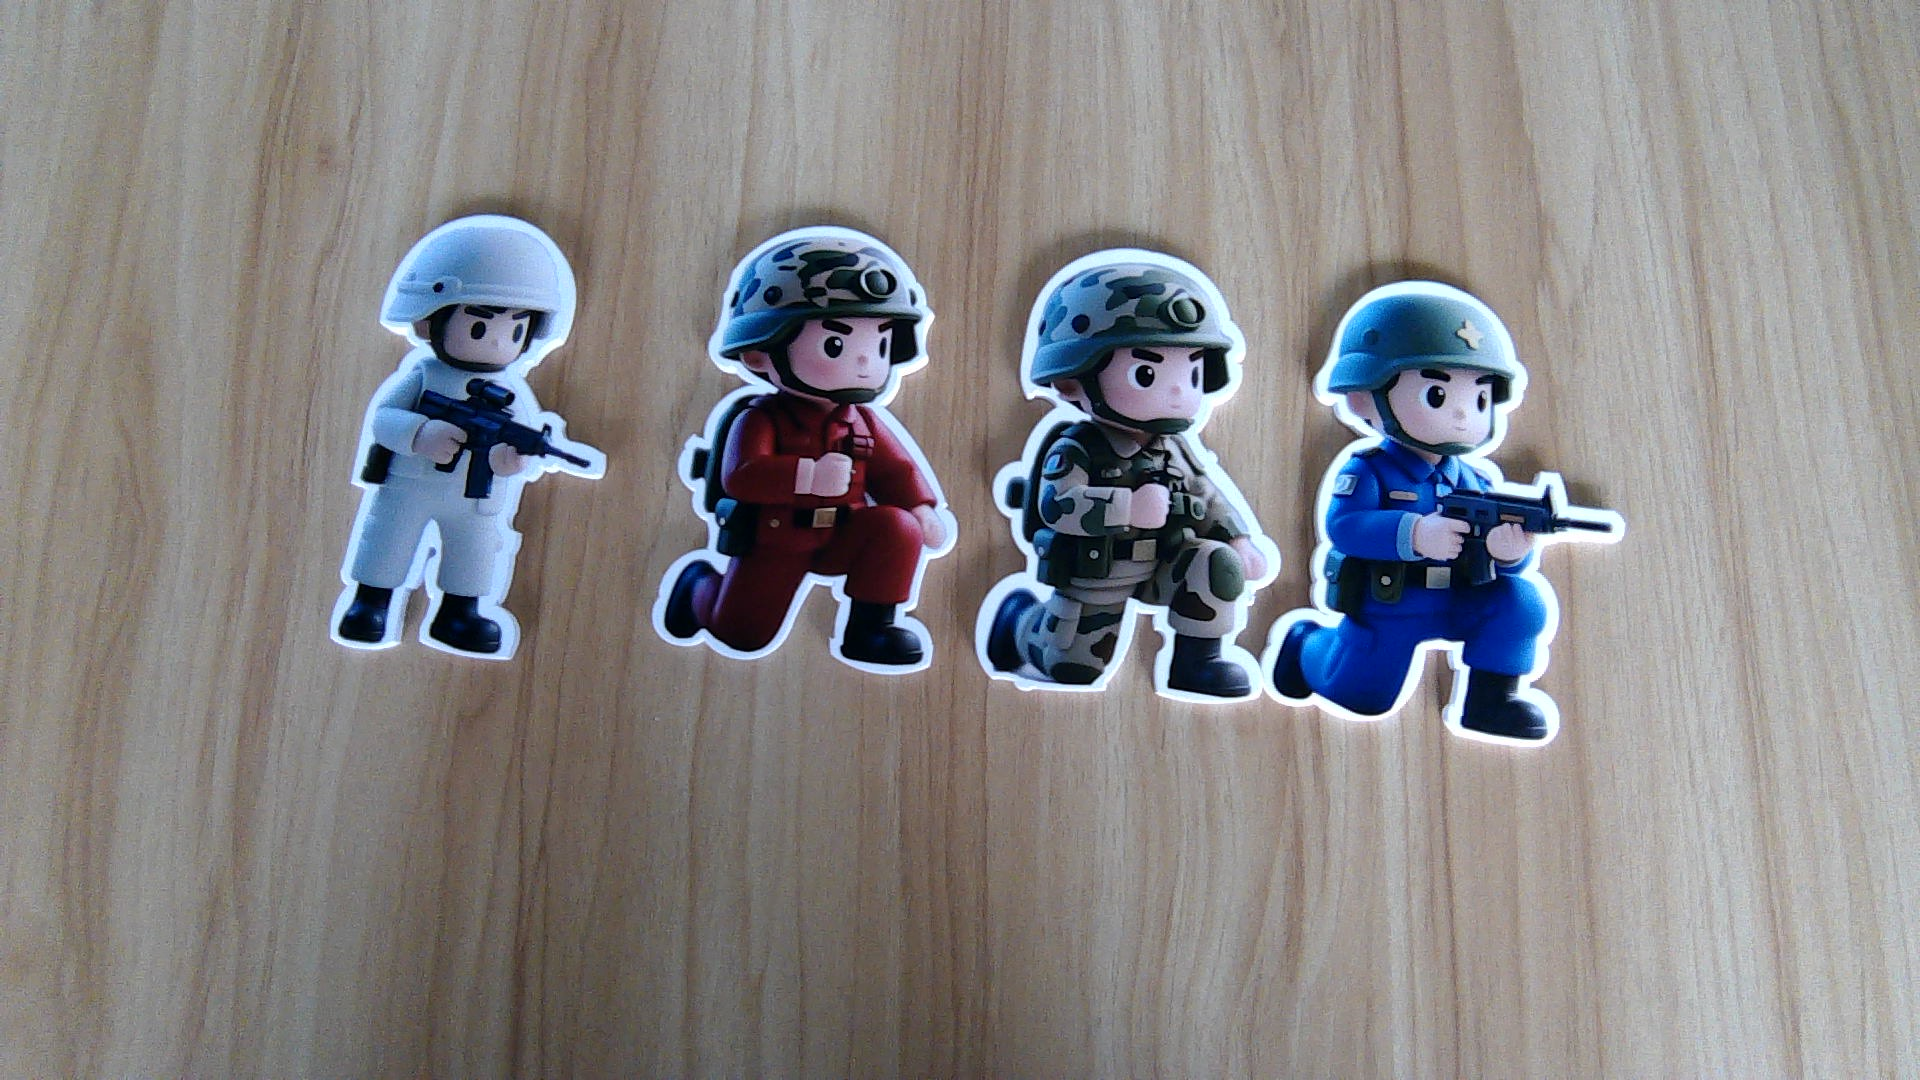人质: (326, 372, 603, 657)
友军: (975, 426, 1280, 702)
敌人1: (650, 396, 959, 678)
敌人2: (1269, 450, 1629, 760)
